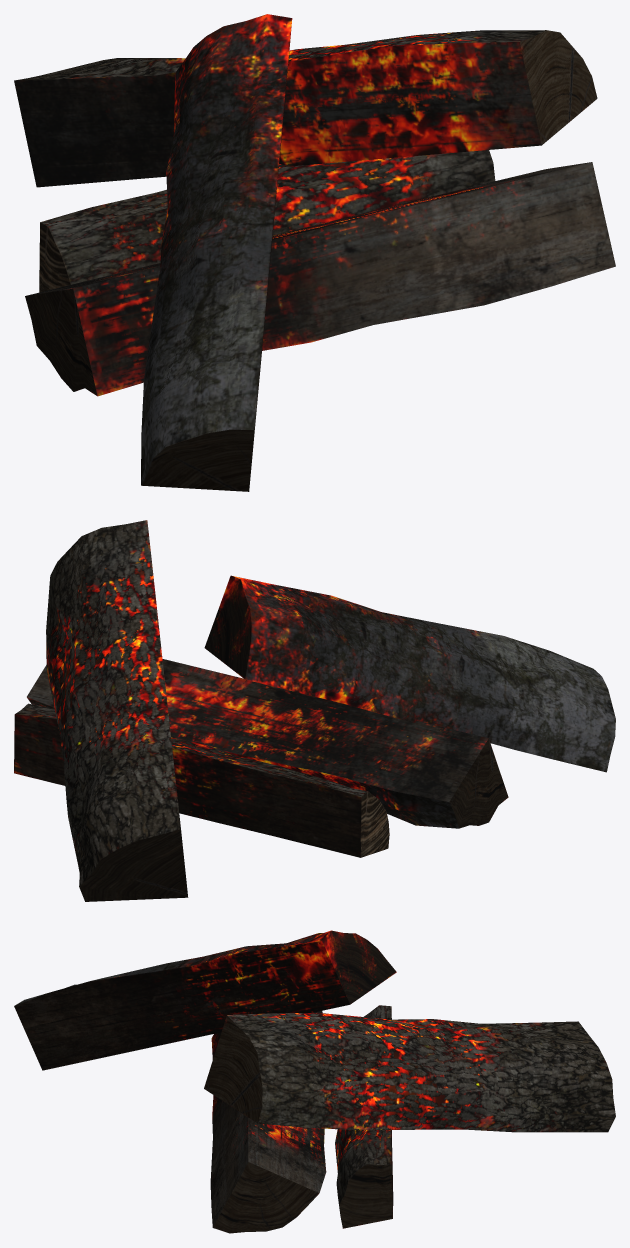
File: SM_firewoodSet_A.fbx
3 renders of one model, top to bottom at view 1: azimuth 30°, elevation 25°; view 2: azimuth 150°, elevation 25°; view 3: azimuth 270°, elevation 25°, orthographic. The views are drawn at different scales.
Visible parts, largest first — view 1: SM_firewoodSet_A_LOD0; view 2: SM_firewoodSet_A_LOD0; view 3: SM_firewoodSet_A_LOD0.
Boxes of the visible parts, x1,y1,x2,y2 form: SM_firewoodSet_A_LOD0: [14, 14, 615, 491]; SM_firewoodSet_A_LOD0: [14, 520, 615, 901]; SM_firewoodSet_A_LOD0: [14, 930, 615, 1233].
Size of the model in its own units: 70.69 by 85.59 by 34.09.
Materials: 1 (1 with a texture image).
